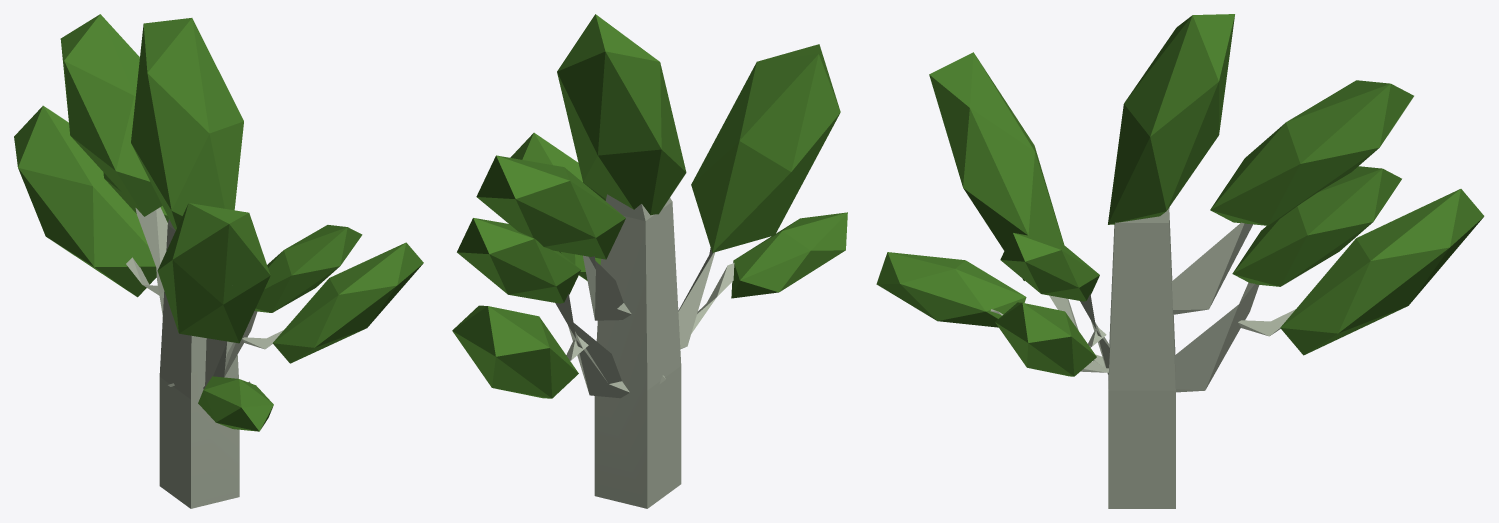
File: ハロキシロンアンモデンドロン.fbx
3 renders of one model, left to right at view 1: azimuth 30°, elevation 25°; view 2: azimuth 150°, elevation 25°; view 3: azimuth 270°, elevation 25°, orthographic. The views are drawn at different scales.
Parts seen in each view (by area): view 1: ICO球.004, 立方体.008; view 2: ICO球.004, 立方体.008; view 3: ICO球.004, 立方体.008.
Boxes of the visible parts, box(x1,y1,x2,y2) form: ICO球.004: box(14, 14, 423, 431); 立方体.008: box(126, 207, 283, 508); ICO球.004: box(452, 14, 847, 398); 立方体.008: box(555, 194, 734, 508); ICO球.004: box(876, 14, 1484, 376); 立方体.008: box(990, 207, 1295, 508).
Bounding box in the file's own units: 533 × 828 × 932.
